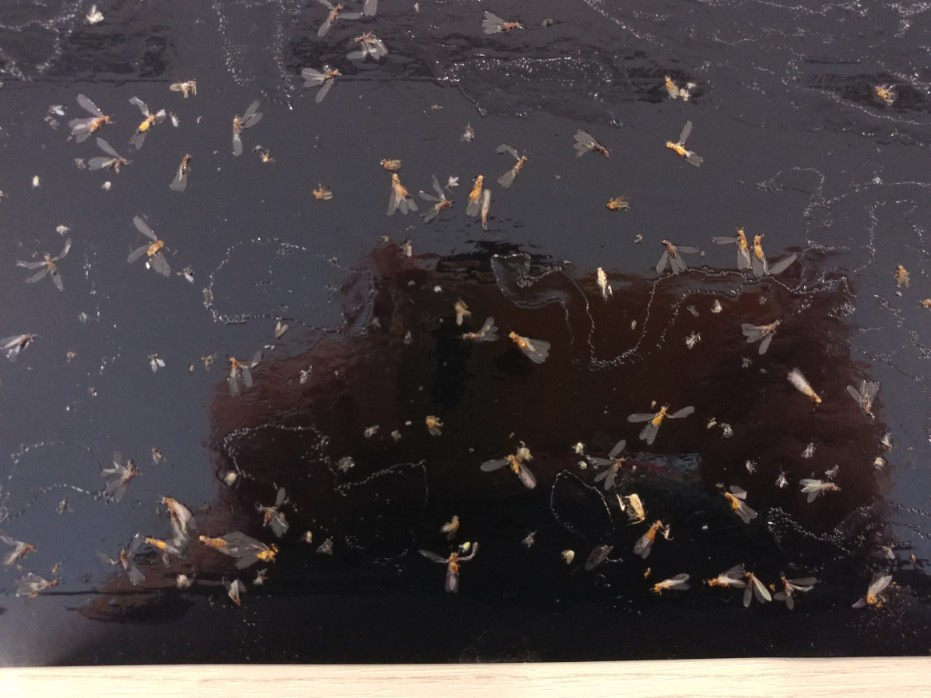flying termite: (484, 437, 547, 491), (746, 227, 781, 291), (381, 166, 416, 224), (718, 222, 753, 276), (463, 161, 484, 218)
